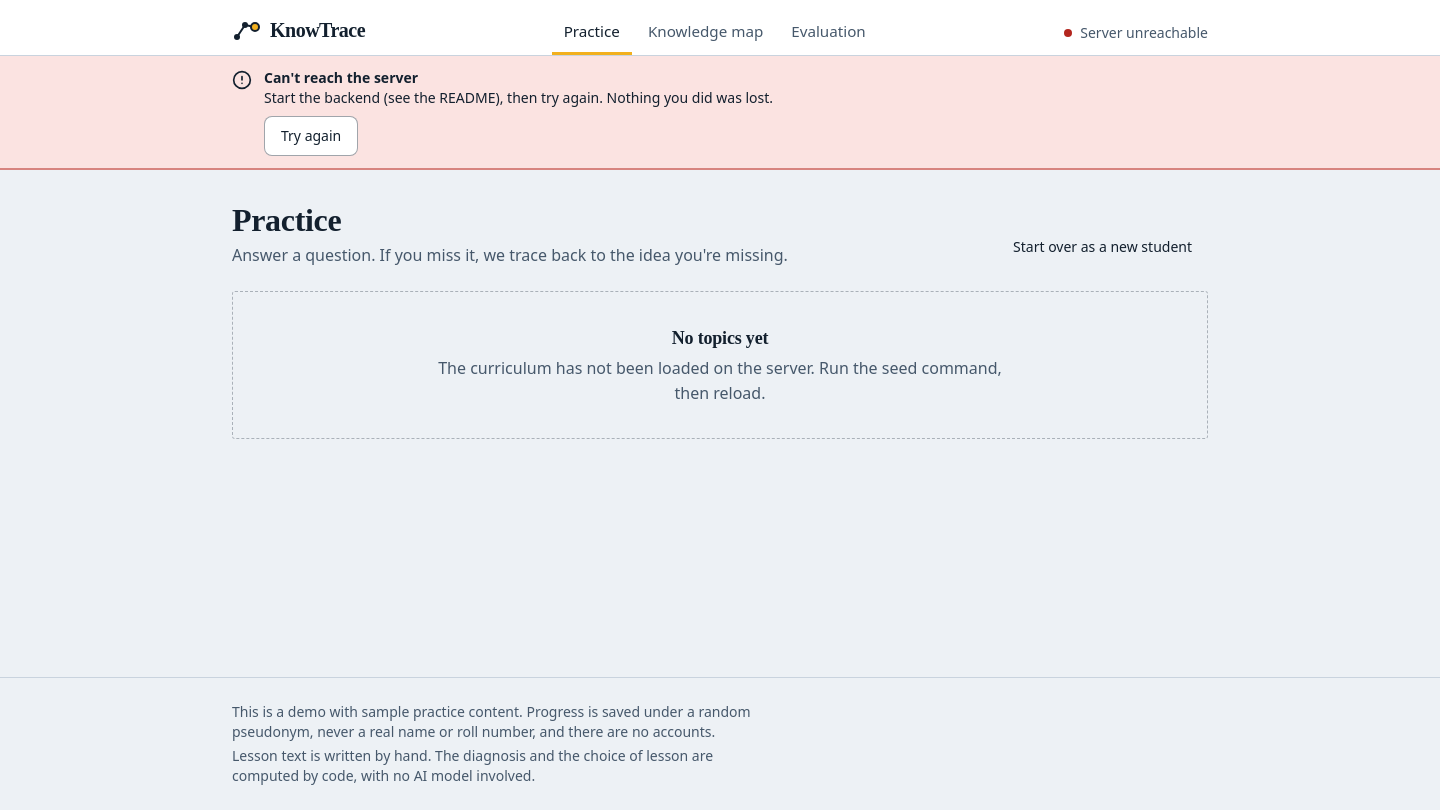
Test: status banners › announces an unreachable server, and clears once Try again succeeds
expect the message shows "Can't reach the server": met, box [264,68,418,87]
expect the text "Server unreachable" is shown: met, box [1064,23,1208,43]
Click the button "Try again". click: (311, 136)
box: [264,116,358,156]
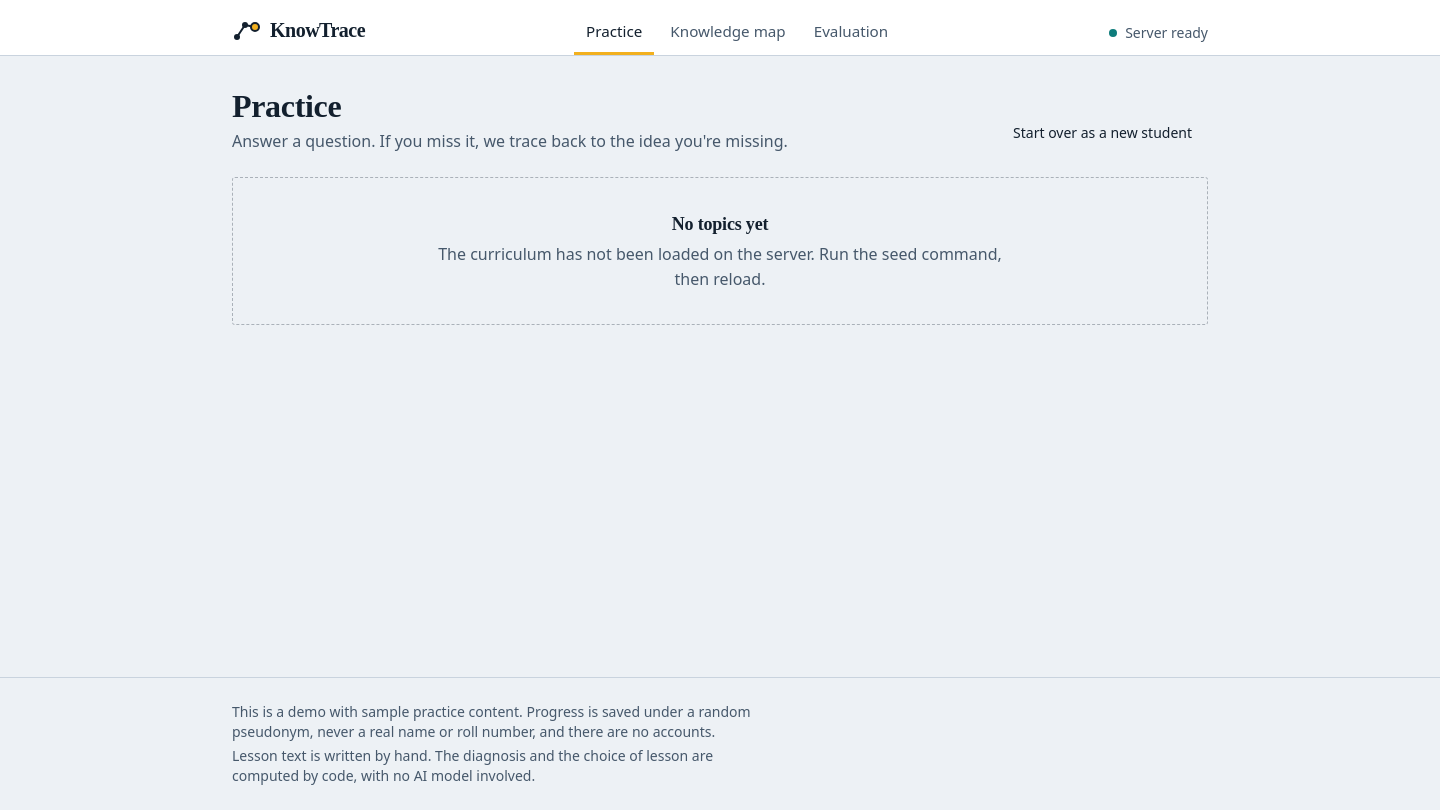
expect the message is gone: met
